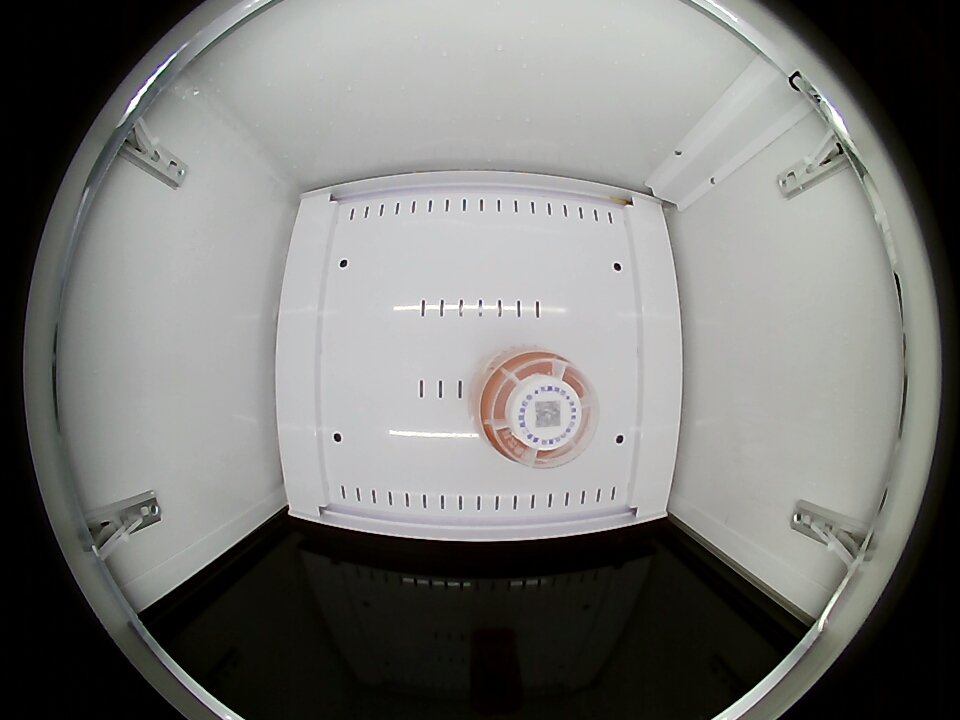dongpeng-b: (475, 349, 597, 468)
